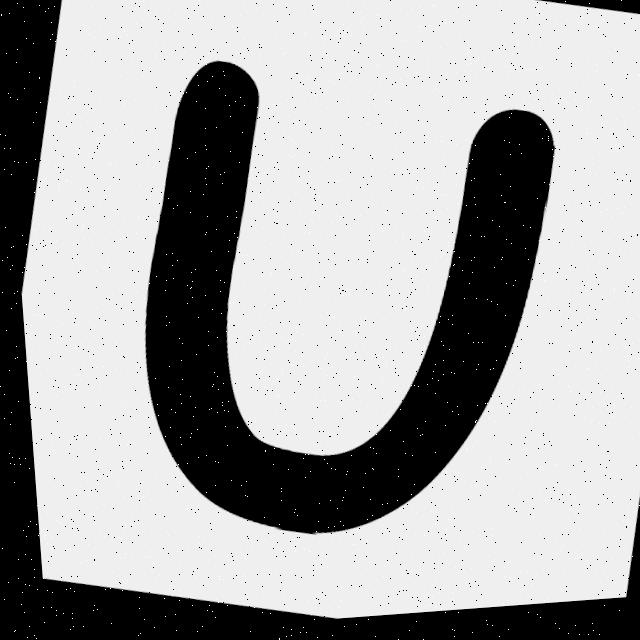U: (140, 65, 551, 538)
